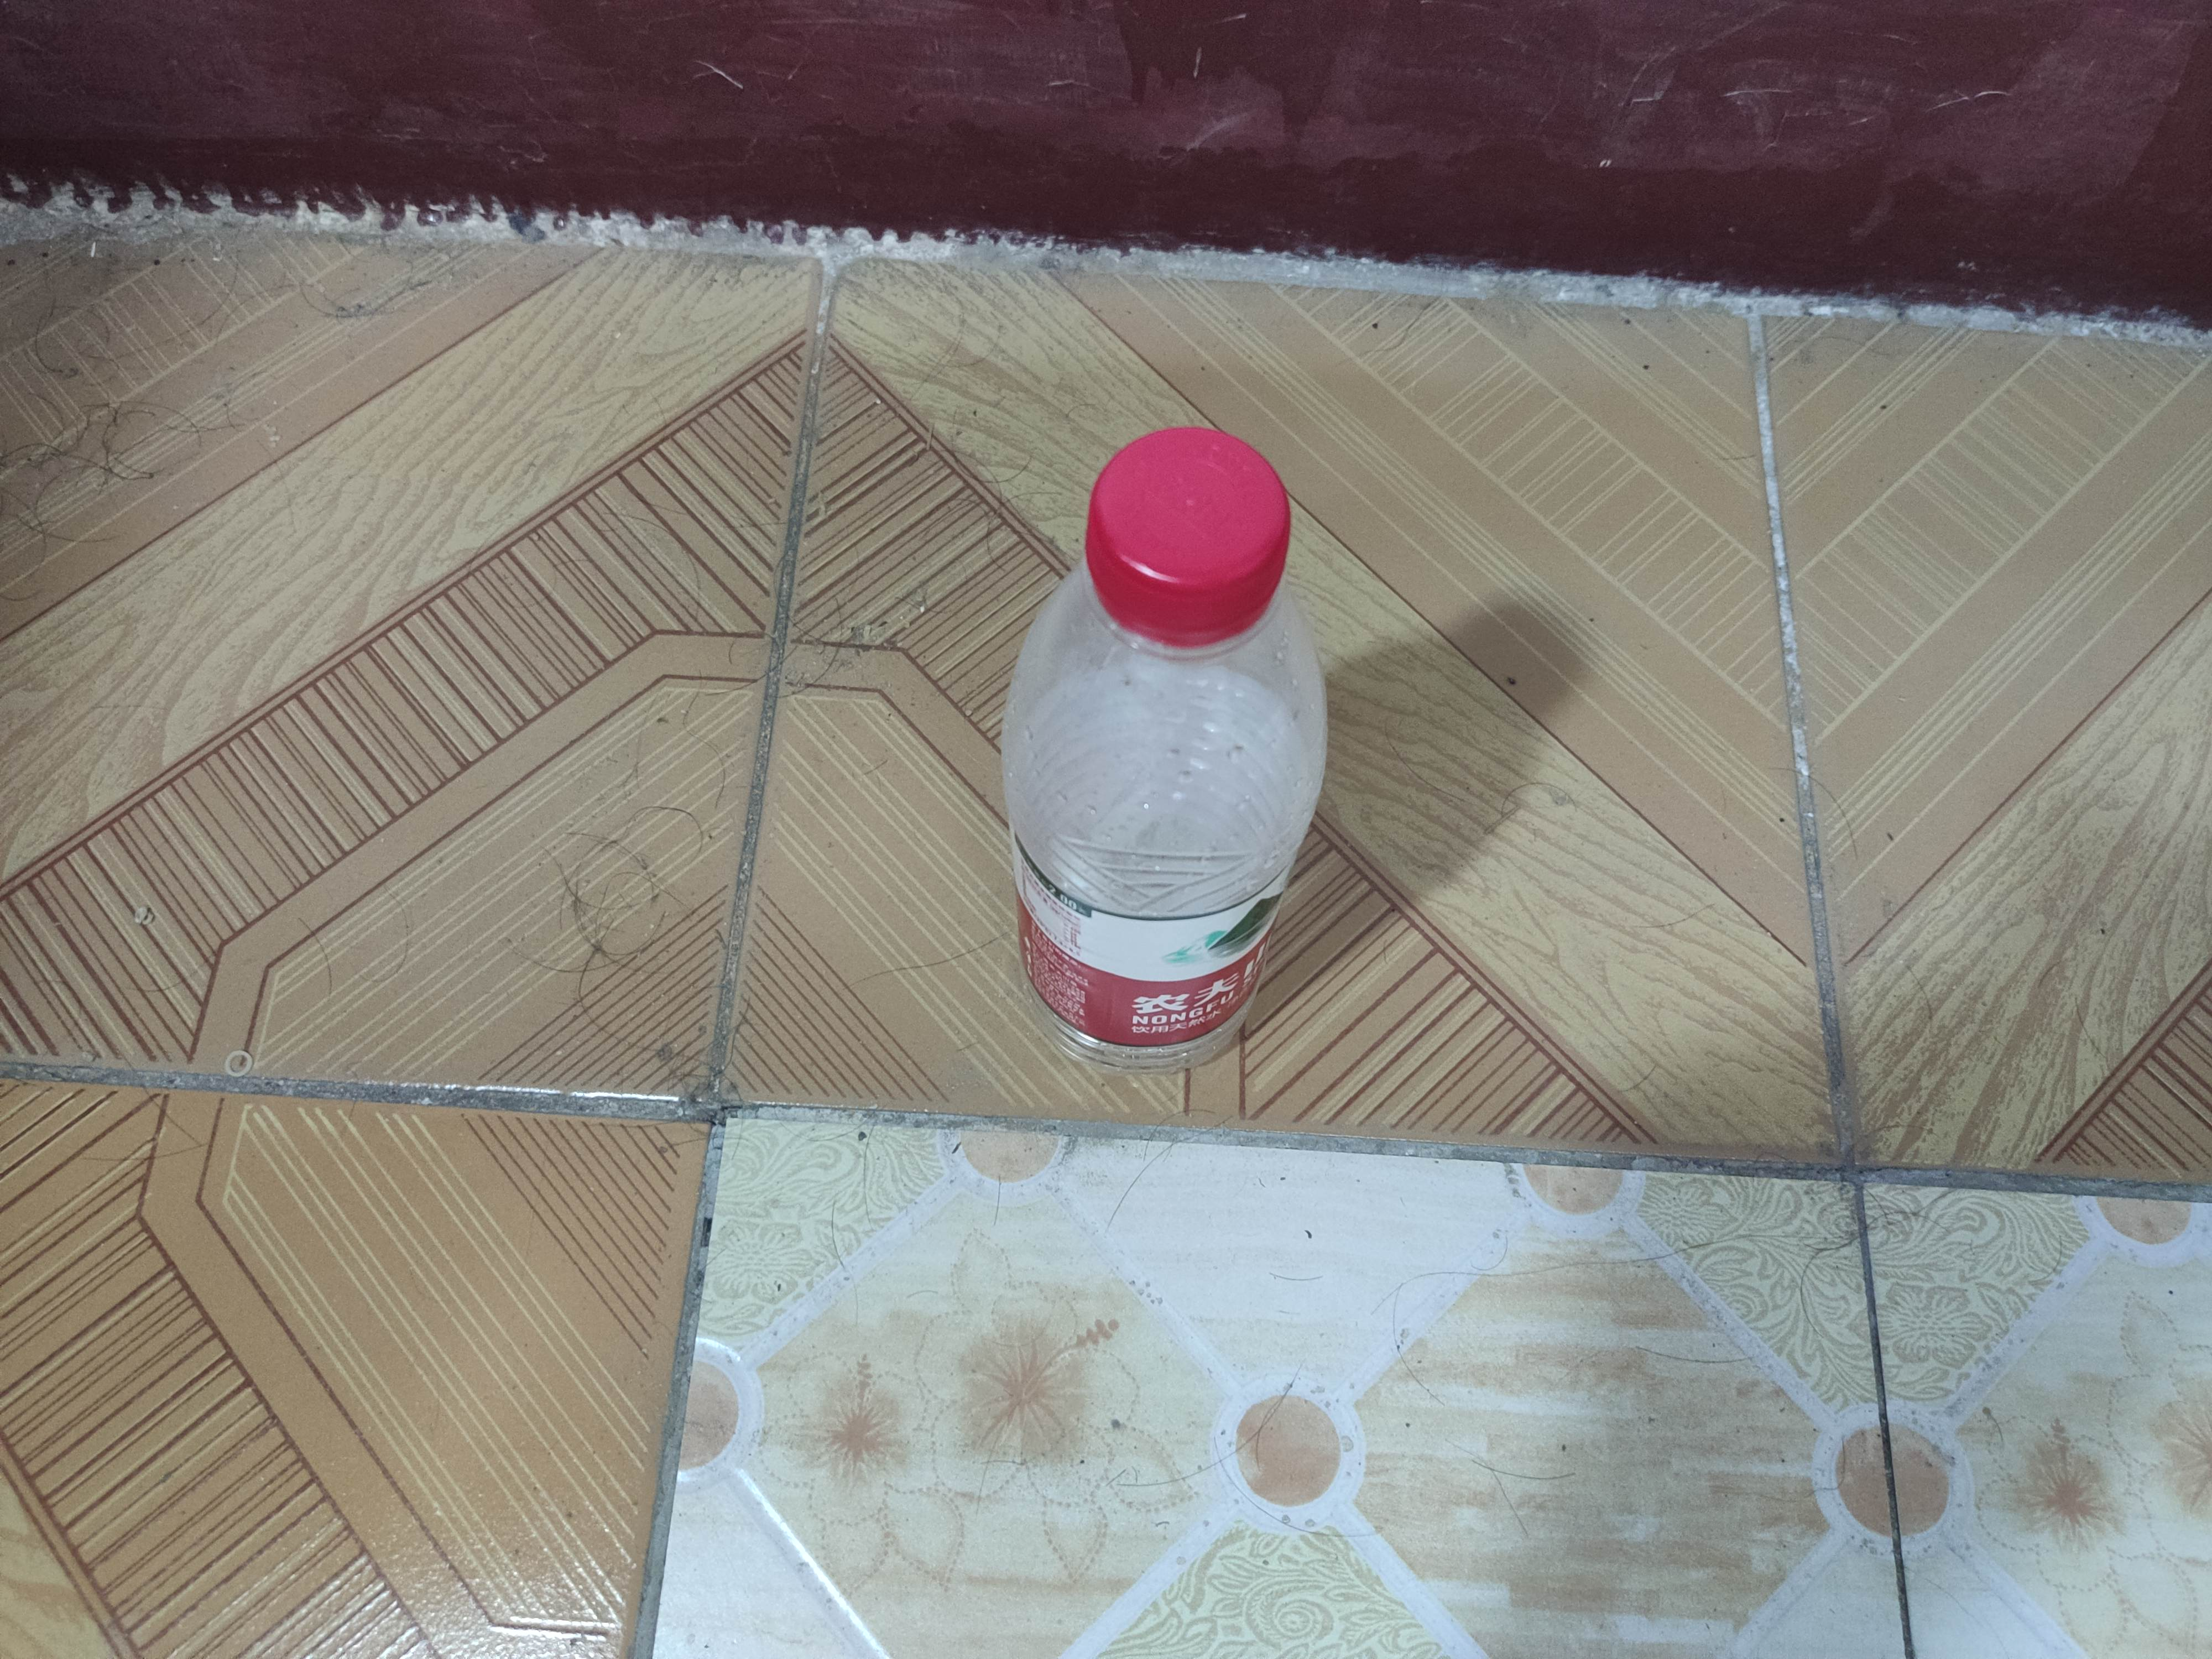Plastic Bottle: (991, 422, 1338, 1084)
